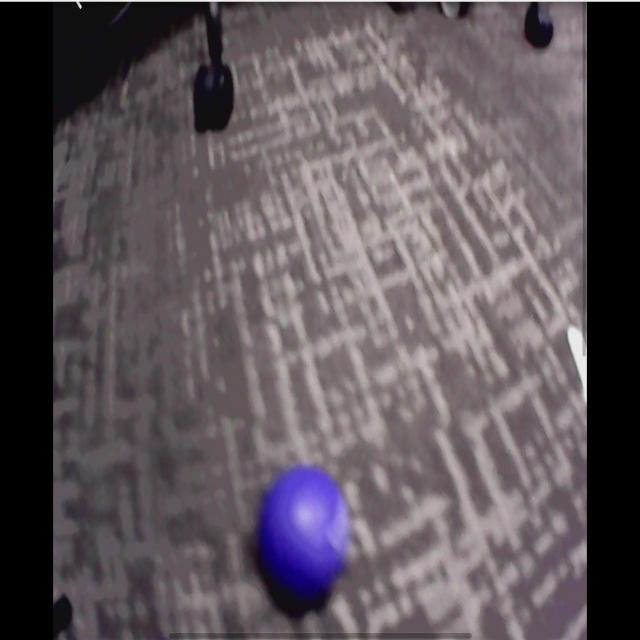ball: (262, 466, 351, 604)
